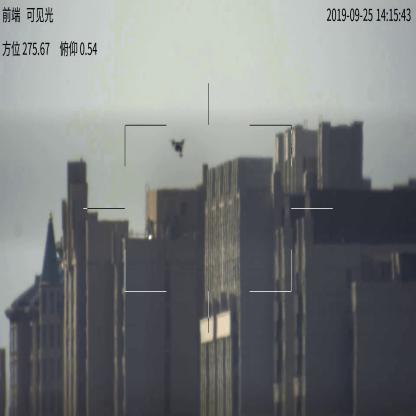uav: (170, 136, 187, 158)
